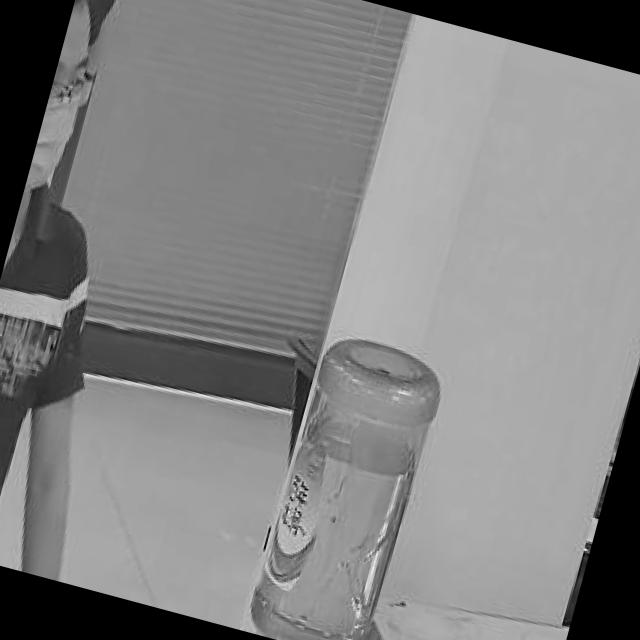Guns: (0, 463, 49, 572)
